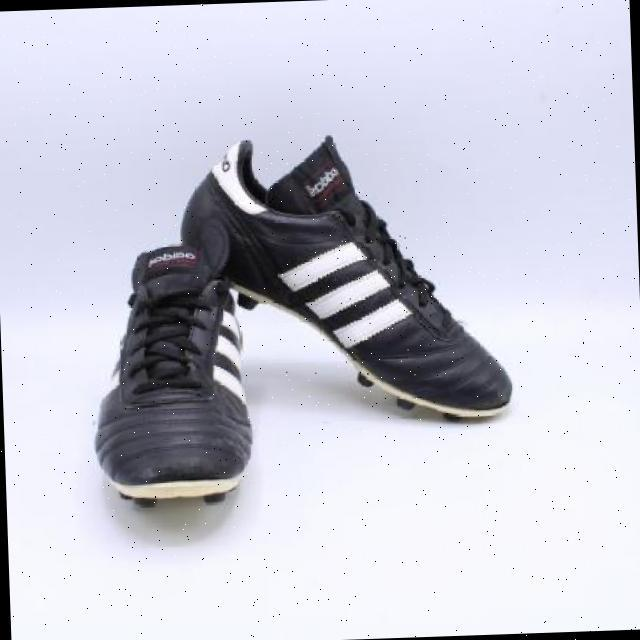Adidas: (278, 235, 415, 382)
